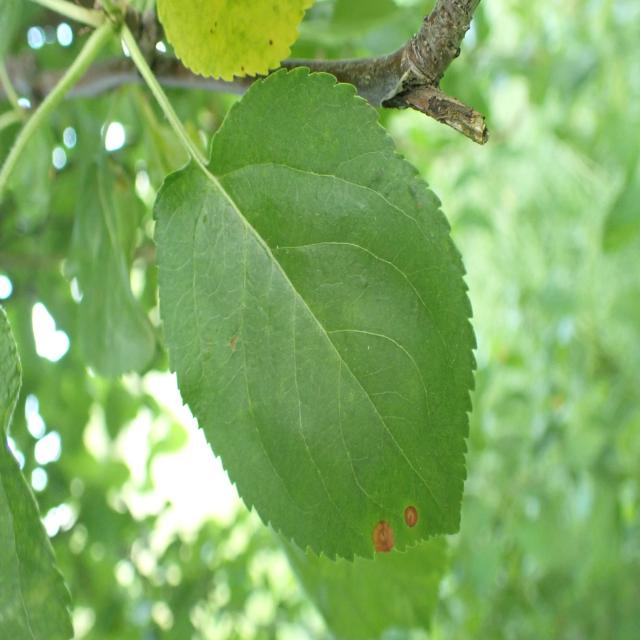Black Rot: (362, 498, 404, 572), (397, 493, 429, 546)
